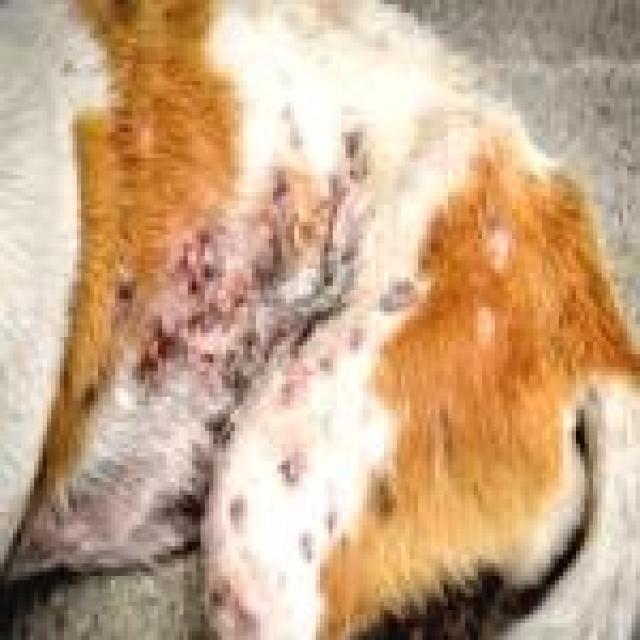fungal infection: (151, 222, 371, 399), (211, 420, 319, 640), (266, 113, 382, 225), (91, 429, 193, 546), (363, 462, 411, 528), (126, 331, 171, 391), (377, 267, 418, 322), (108, 266, 138, 310), (82, 382, 106, 408), (324, 512, 346, 536)
